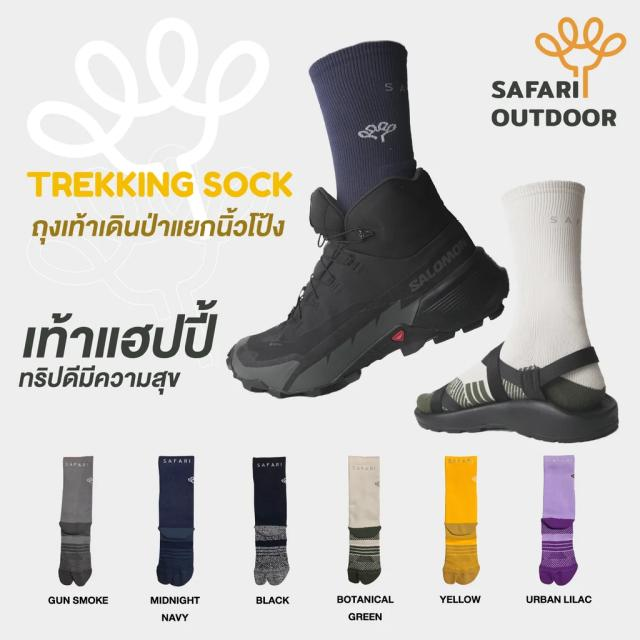sock: (308, 39, 417, 216), (156, 455, 194, 586), (539, 454, 577, 585), (252, 456, 289, 585), (442, 455, 479, 584), (58, 456, 93, 586), (347, 456, 381, 584)
